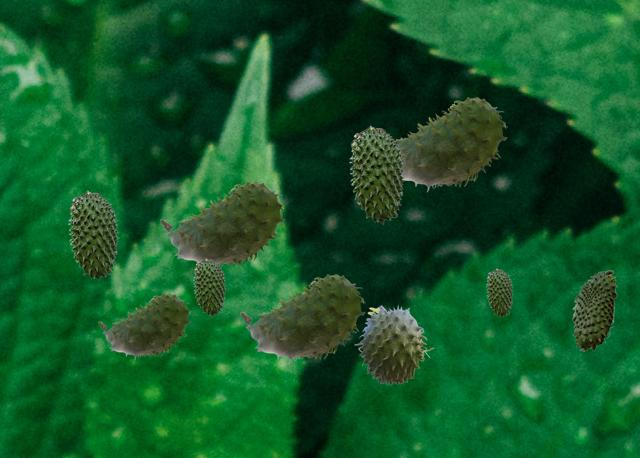guyabano: (240, 274, 364, 363), (160, 181, 284, 266), (396, 97, 506, 191), (354, 304, 433, 384), (98, 293, 190, 359), (349, 125, 404, 223), (68, 190, 118, 279), (572, 270, 616, 350), (193, 258, 225, 315), (486, 268, 512, 316)
